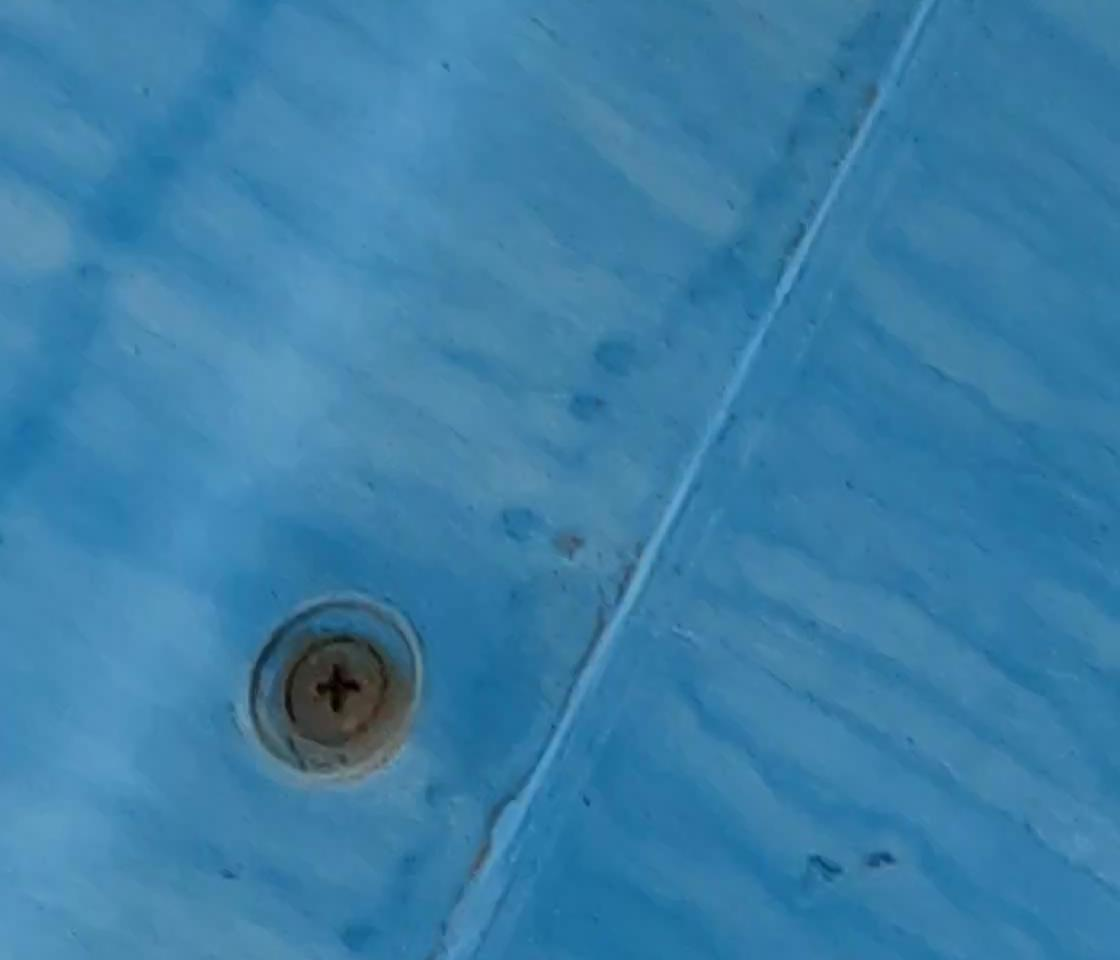rivet_damage: (273, 615, 406, 764)
